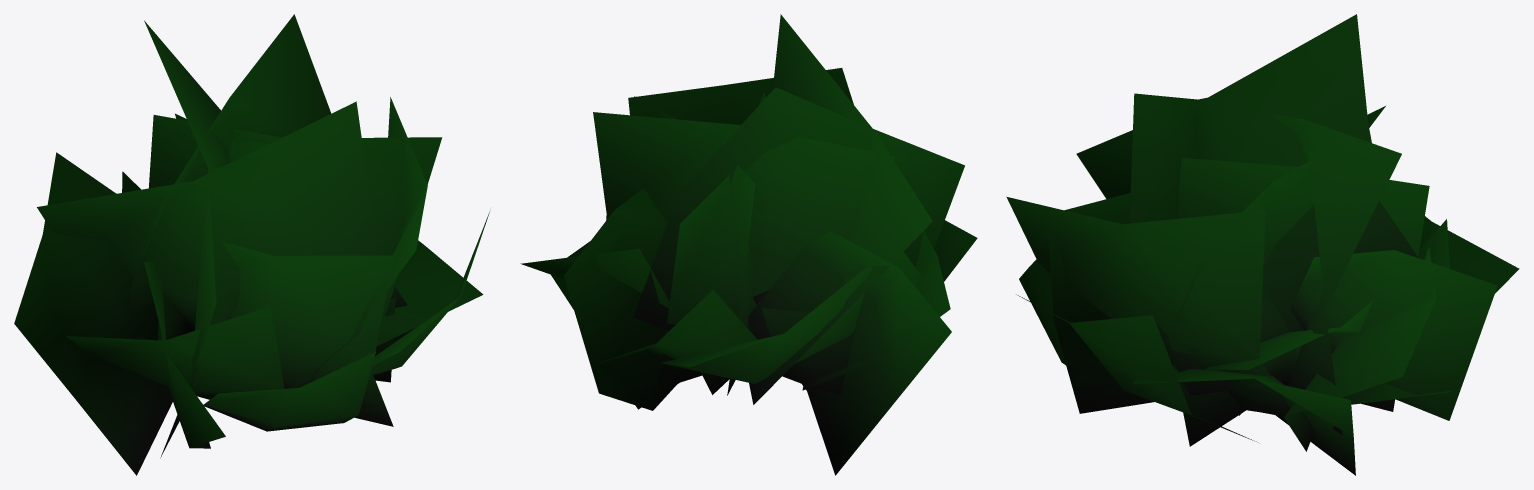
Rendered from GenericBushRHEWP_B.fbx.
3 views of the same model, side by side, from view 1: azimuth 30°, elevation 25°; view 2: azimuth 150°, elevation 25°; view 3: azimuth 270°, elevation 25° (orthographic). The views are drawn at different scales.
Visible parts, largest first — view 1: GenericBushCATAM_B; view 2: GenericBushCATAM_B; view 3: GenericBushCATAM_B.
Boxes of the visible parts, bbox=[...] form: GenericBushCATAM_B: bbox=[14, 14, 490, 475]; GenericBushCATAM_B: bbox=[520, 14, 977, 475]; GenericBushCATAM_B: bbox=[1006, 14, 1519, 475].
Size of the model in its own units: 2.38 by 2.37 by 2.53.
